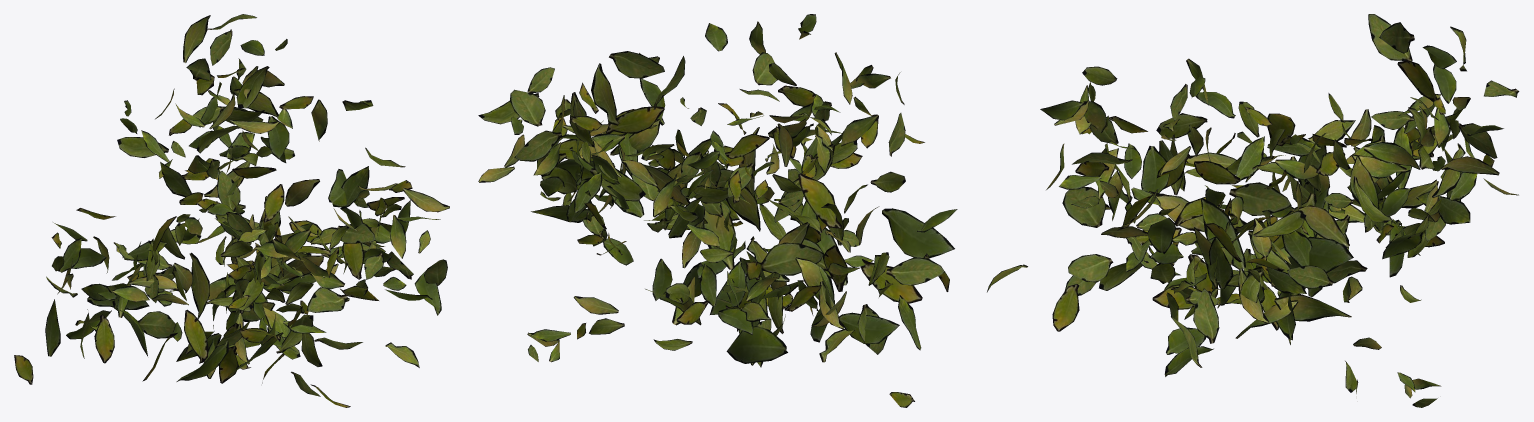
File: island_tree_01_L1_hojas.glb
The picture shows the model from 3 angles, left to right: view 1: azimuth 30°, elevation 25°; view 2: azimuth 150°, elevation 25°; view 3: azimuth 270°, elevation 25°; orthographic projection. The views are drawn at different scales.
Parts seen in each view (by area): view 1: island_tree_01_LOD0; view 2: island_tree_01_LOD0; view 3: island_tree_01_LOD0.
Part boxes in pixels (left/top/right/bottom): island_tree_01_LOD0: left=14, top=14, right=449, bottom=407; island_tree_01_LOD0: left=478, top=14, right=957, bottom=407; island_tree_01_LOD0: left=987, top=14, right=1519, bottom=407.
Bounding box in the file's own units: 4.45 × 3.48 × 4.71.
Materials: 1 (1 with a texture image).
